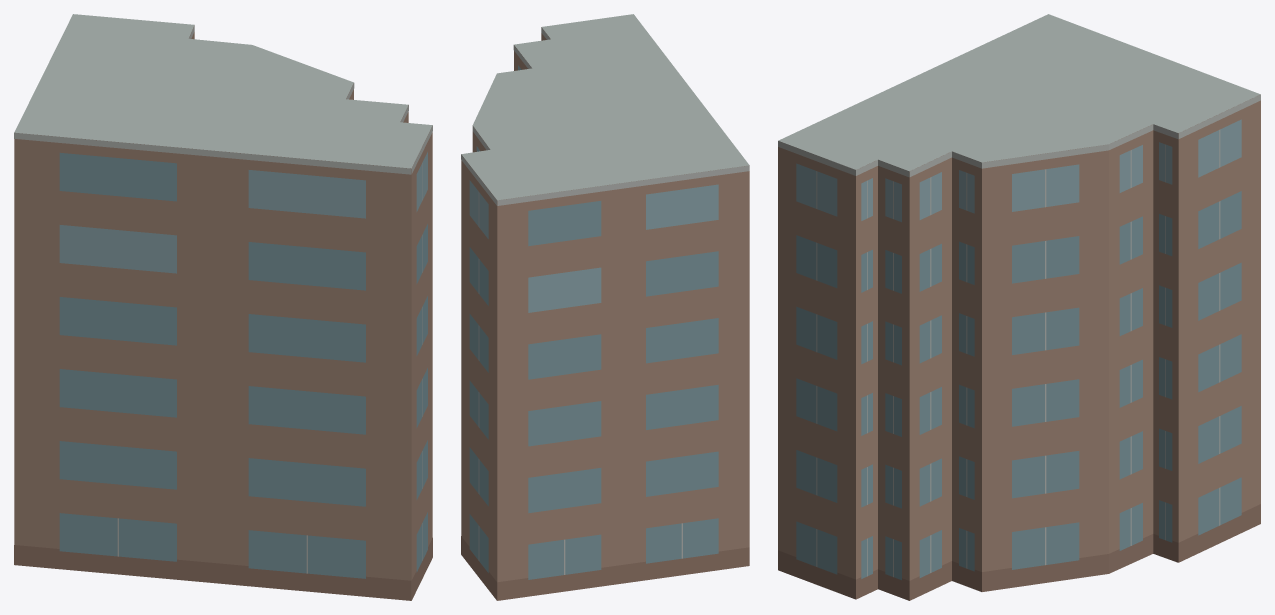
The model's file is survey-upis-33012567.glb.
3 views of the same model, side by side, from view 1: azimuth 30°, elevation 25°; view 2: azimuth 150°, elevation 25°; view 3: azimuth 270°, elevation 25° (orthographic). The views are drawn at different scales.
Visible parts, largest first — view 1: survey-upis-33012567.tmp; view 2: survey-upis-33012567.tmp; view 3: survey-upis-33012567.tmp.
Boxes of the visible parts, bbox=[...] form: survey-upis-33012567.tmp: bbox=[14, 14, 432, 600]; survey-upis-33012567.tmp: bbox=[461, 14, 749, 600]; survey-upis-33012567.tmp: bbox=[778, 14, 1260, 600].
Size of the model in its own units: 13.44 by 17.1 by 17.42.
